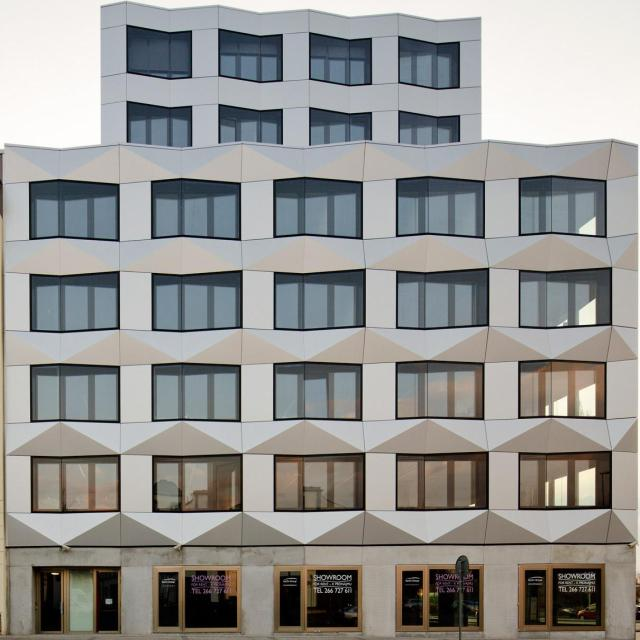door: (272, 564, 310, 634), (516, 563, 554, 633), (32, 567, 69, 635), (396, 564, 430, 632), (152, 564, 185, 633), (93, 570, 122, 634)
wall: (3, 1, 637, 639)
windows: (517, 562, 609, 634), (273, 565, 363, 634), (395, 566, 483, 633), (156, 564, 240, 634), (29, 274, 119, 332), (149, 364, 241, 420), (274, 364, 361, 422), (394, 454, 486, 508), (522, 360, 604, 419), (398, 364, 485, 419), (275, 456, 362, 511), (398, 180, 482, 236), (520, 454, 608, 507), (279, 182, 359, 237), (35, 366, 115, 421), (31, 460, 117, 511), (276, 277, 358, 328), (157, 188, 237, 238), (398, 278, 478, 328), (158, 461, 237, 511), (157, 281, 240, 327), (522, 185, 598, 234), (35, 194, 117, 239), (522, 278, 595, 326), (126, 33, 190, 78), (218, 37, 280, 82), (128, 105, 192, 146), (395, 49, 460, 88), (314, 44, 367, 85), (221, 108, 279, 144), (398, 117, 462, 146), (313, 117, 367, 142)
